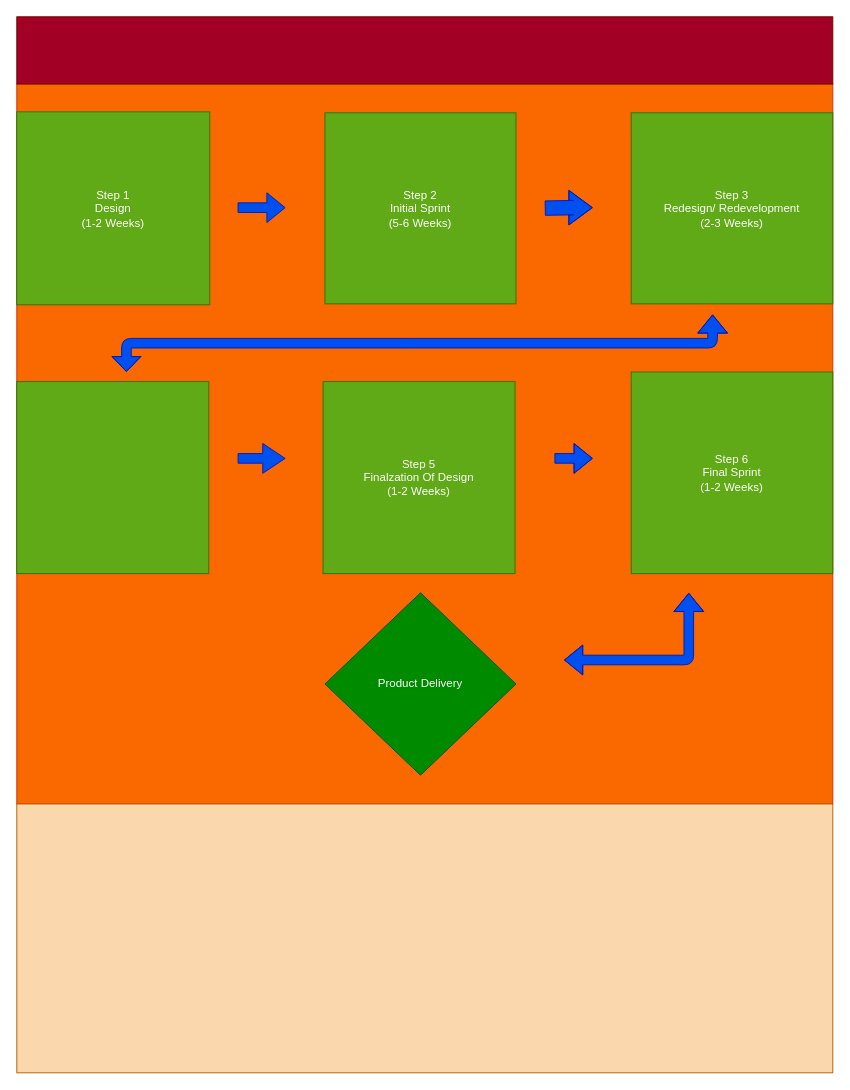
Image size: 850x1090. Some labels were removed from this diagram. The centre of each missing label's shape, as x and y in pixels:
Roughly 20 Weeks for completion: point 424,938
Step 4 Redesign Sprint (1-2 Weeks): point 112,477
Step By Step Process: point 424,50
